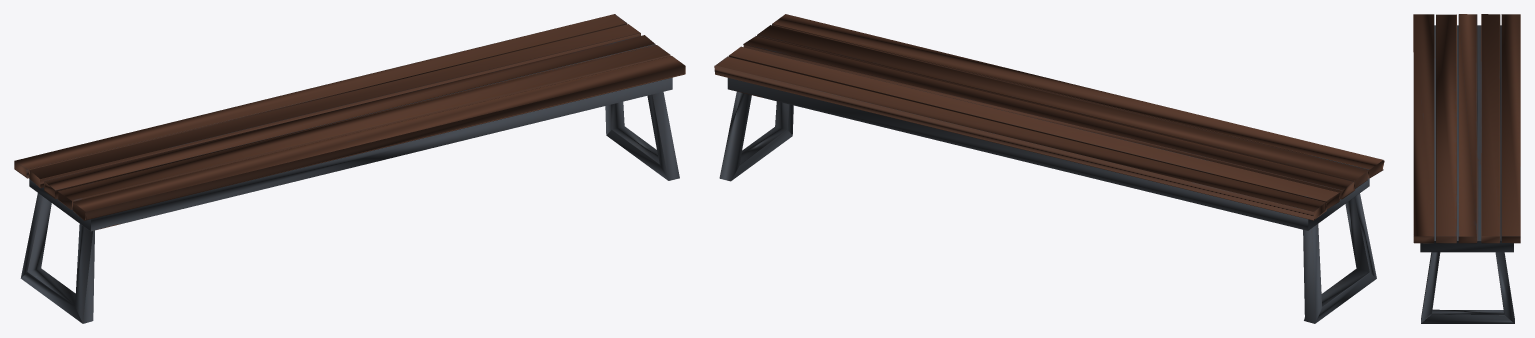
The model's file is lobby_bench.fbx.
3 renders of one model, left to right at view 1: azimuth 30°, elevation 25°; view 2: azimuth 150°, elevation 25°; view 3: azimuth 270°, elevation 25°, orthographic. The views are drawn at different scales.
Parts seen in each view (by area): view 1: Mesh_0; view 2: Mesh_0; view 3: Mesh_0.
Part boxes in pixels (box(x1,y1,x2,y2)): Mesh_0: box(14, 14, 685, 323); Mesh_0: box(714, 14, 1384, 323); Mesh_0: box(1413, 14, 1520, 323).
Bounding box in the file's own units: 95.41 × 17.58 × 19.43.
Materials: 1 (1 with a texture image).
